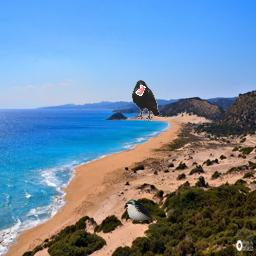Crow: (132, 80, 160, 121)
Swallow: (125, 199, 159, 222)
